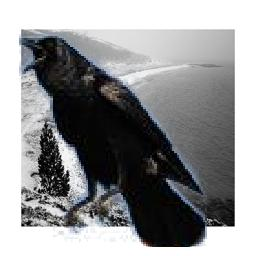Crow: (19, 31, 207, 247)
